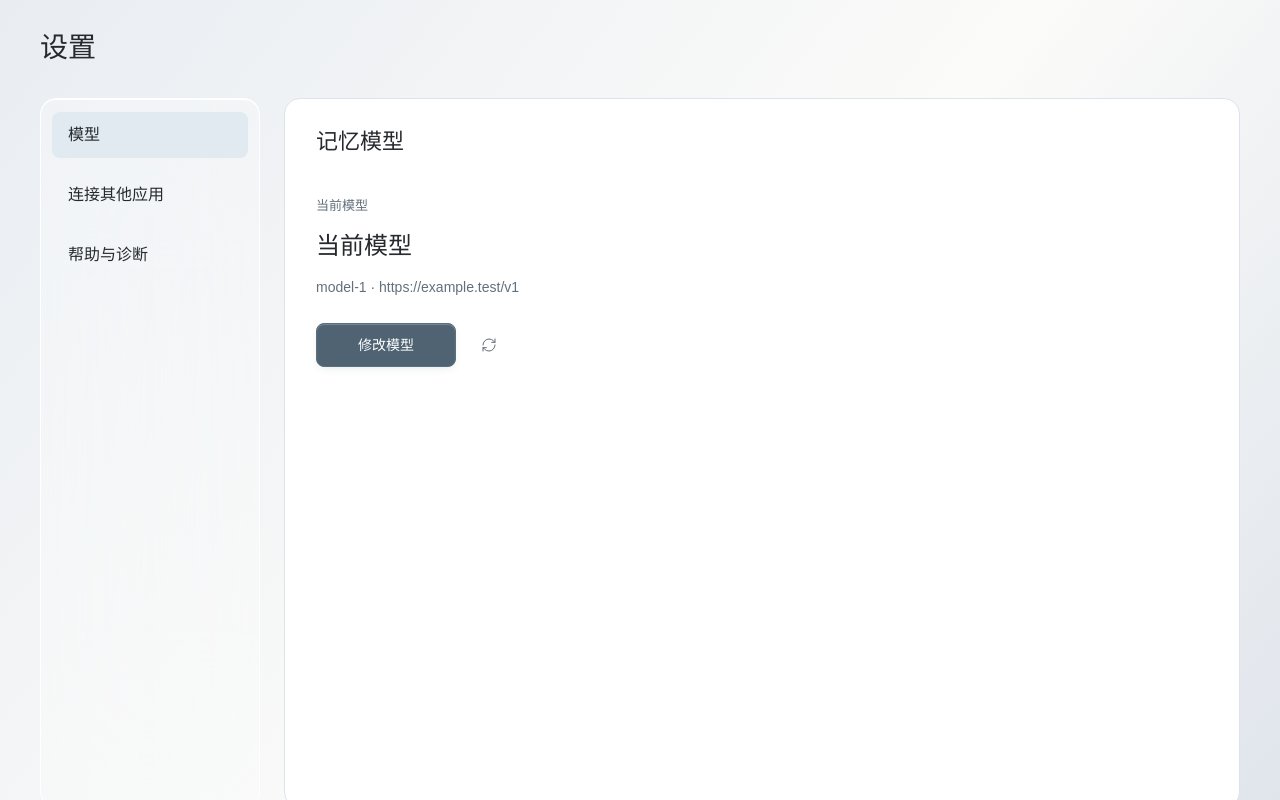
Test case: shows the help and diagnostics group by default and hides it when opted out
Click the button "帮助与诊断".
click(150, 255)  # box x1=52 y1=232 x2=248 y2=278
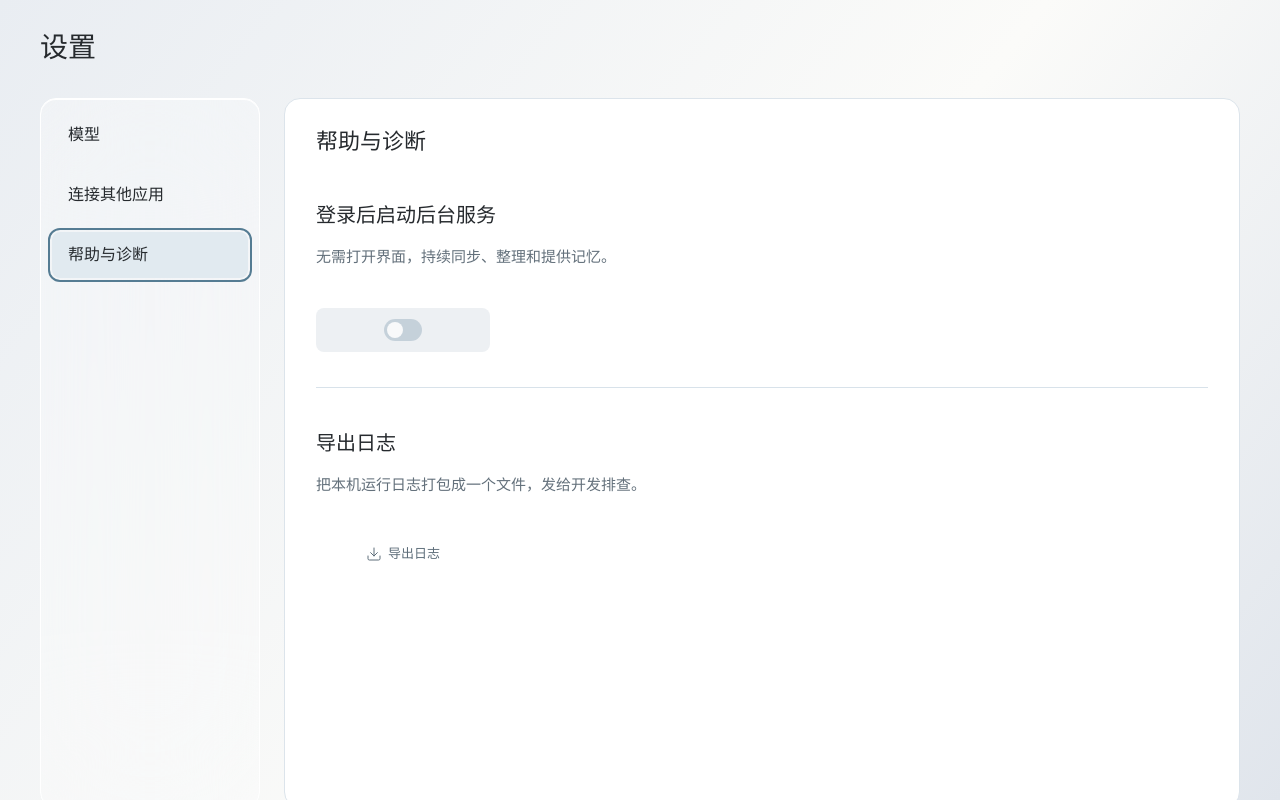
Now the heading "帮助与诊断" is shown, box x1=316 y1=129 x2=426 y2=154
Now the heading "导出日志" is shown, box x1=316 y1=432 x2=396 y2=454
